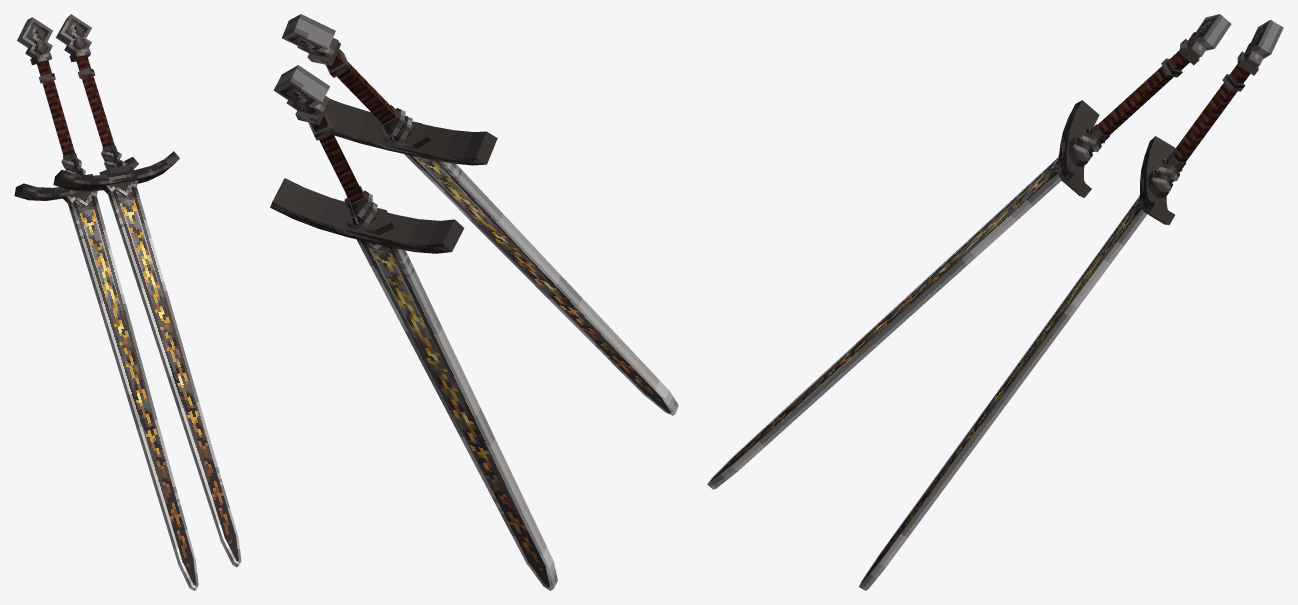
The model's file is rage_of_flame.glb.
The picture shows the model from 3 angles, left to right: view 1: azimuth 30°, elevation 25°; view 2: azimuth 150°, elevation 25°; view 3: azimuth 270°, elevation 25°; orthographic projection. The views are drawn at different scales.
Parts seen in each view (by area): view 1: main__Tool_R, off__Tool_L; view 2: off__Tool_L, main__Tool_R; view 3: main__Tool_R, off__Tool_L.
Part boxes in pixels (x1,y1,x2,y2): main__Tool_R: (53, 14, 241, 567); off__Tool_L: (14, 17, 198, 590); off__Tool_L: (270, 65, 557, 590); main__Tool_R: (282, 14, 678, 415); main__Tool_R: (707, 14, 1231, 489); off__Tool_L: (859, 20, 1283, 590).
Size of the model in its own units: 0.6374 by 2.29 by 2.03.
1 material, 1 textured.
